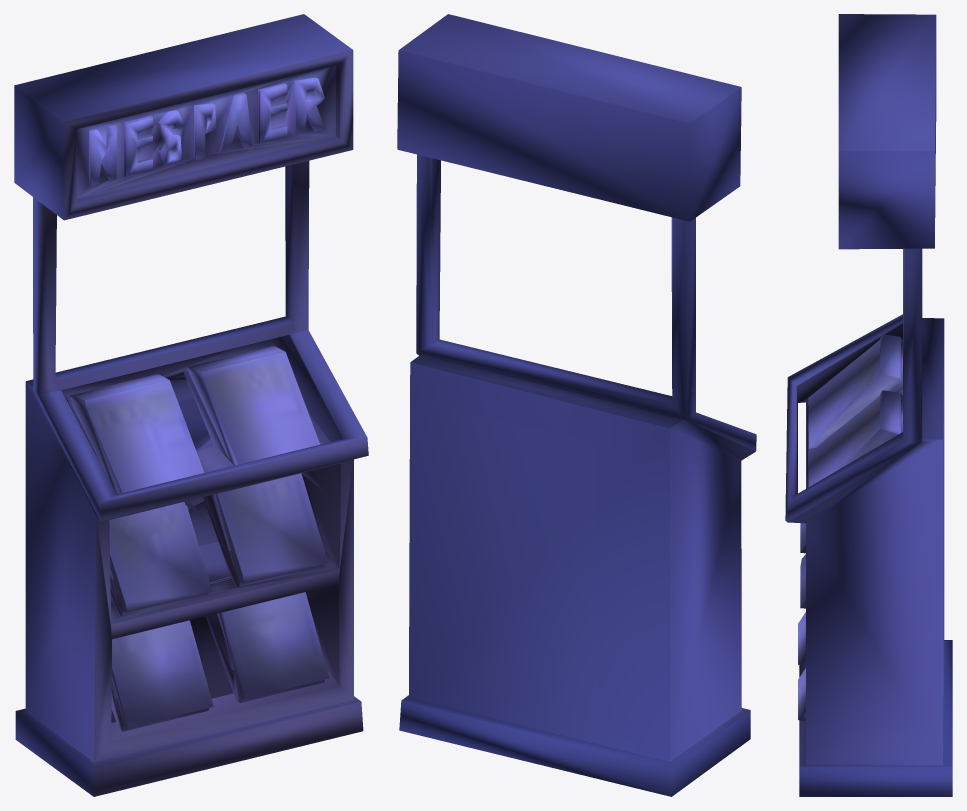
File: model.progressive.glb
3 renders of one model, left to right at view 1: azimuth 30°, elevation 25°; view 2: azimuth 150°, elevation 25°; view 3: azimuth 270°, elevation 25°, orthographic. The views are drawn at different scales.
Parts seen in each view (by area): view 1: mesh_input; view 2: mesh_input; view 3: mesh_input.
Part boxes in pixels (x1,y1,x2,y2): mesh_input: (14,14,368,796); mesh_input: (397,14,756,796); mesh_input: (785,14,952,796).
Bounding box in the file's own units: 0.8711 × 1.89 × 0.4414.
Materials: 1 (1 with a texture image).
